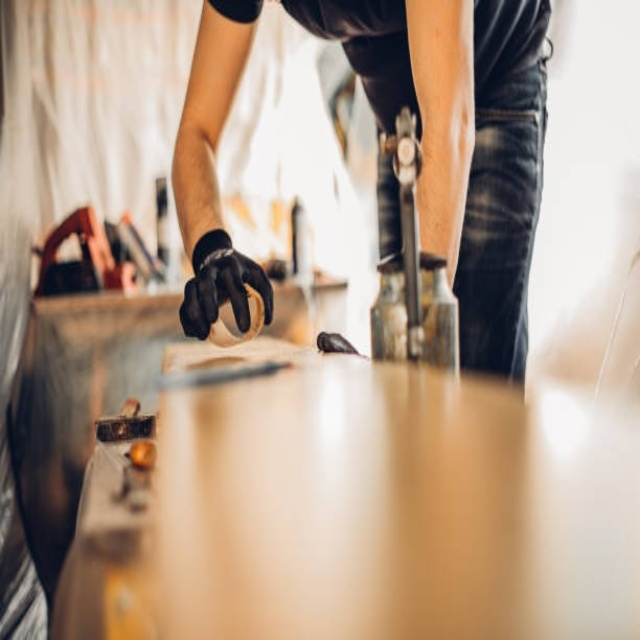Guantes: (179, 230, 275, 342)
